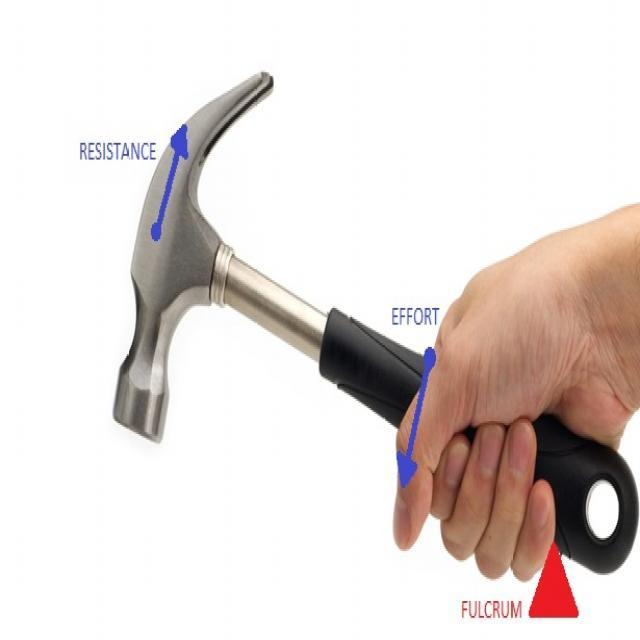hammer: (107, 58, 640, 582)
